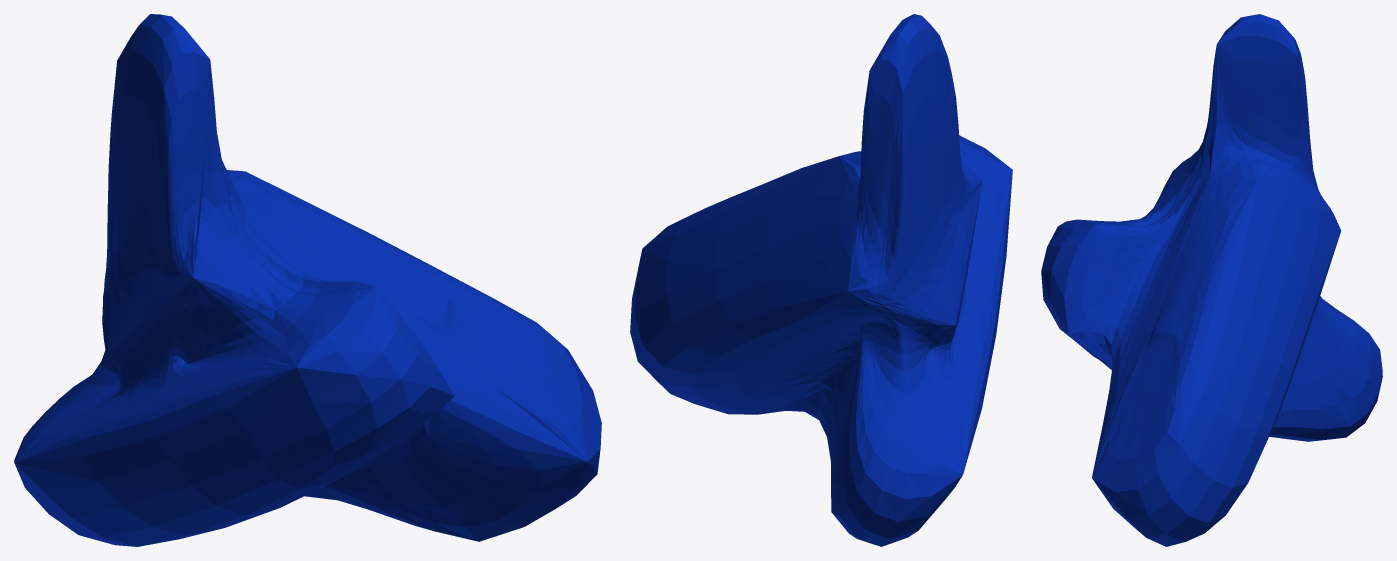
3 renders of one model, left to right at view 1: azimuth 30°, elevation 25°; view 2: azimuth 150°, elevation 25°; view 3: azimuth 270°, elevation 25°, orthographic. The views are drawn at different scales.
Visible parts, largest first — view 1: 546_Cube.2203; view 2: 546_Cube.2203; view 3: 546_Cube.2203.
Boxes of the visible parts, left/top/right/bottom form: 546_Cube.2203: left=14, top=14, right=601, bottom=546; 546_Cube.2203: left=630, top=14, right=1012, bottom=546; 546_Cube.2203: left=1041, top=14, right=1382, bottom=546.
Bounding box in the file's own units: 11.83 × 13.16 × 9.55.
